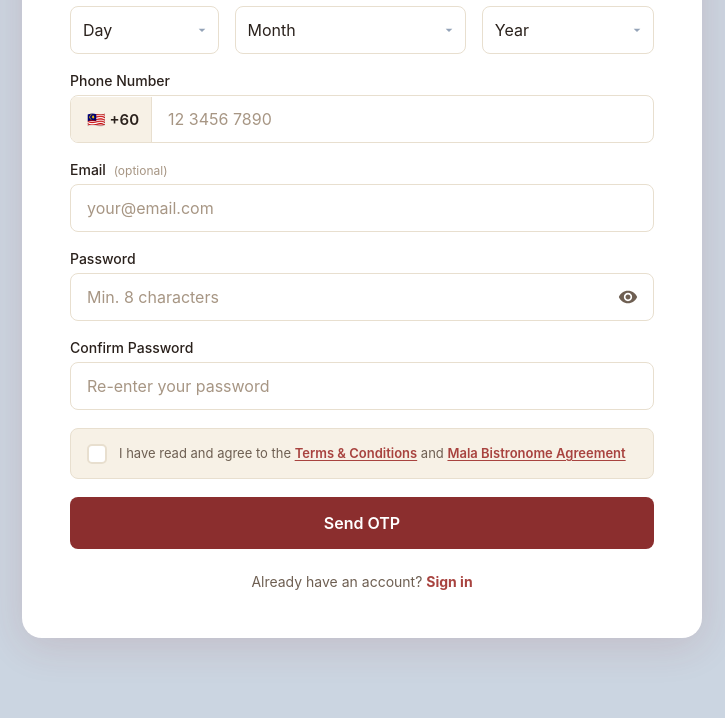
Signup page — field validation › shows required errors when all fields are empty on submit
(page scrolled)
Click the button "Send OTP": [362, 523] box [70, 497, 654, 549]
(page scrolled)
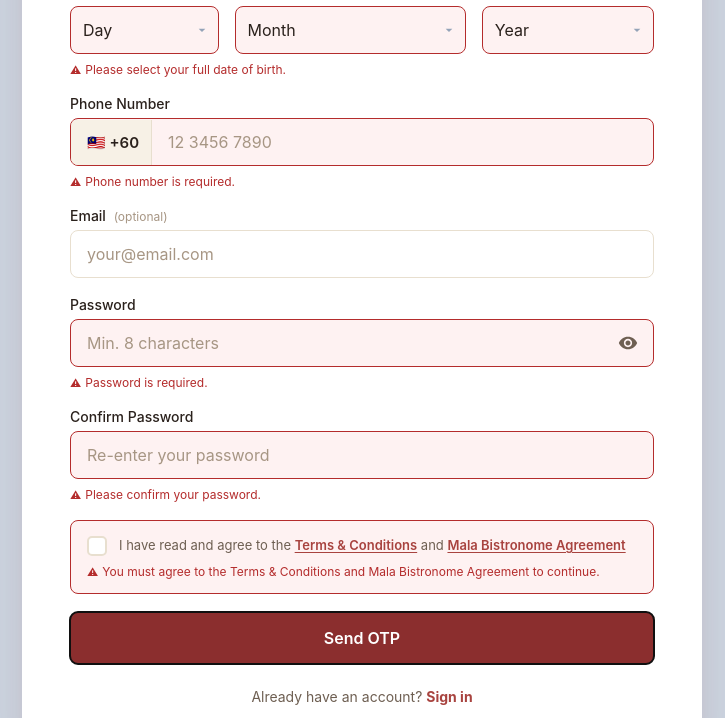
expect the text "Please select your full date of birth." is shown: met, box [85, 62, 286, 77]
